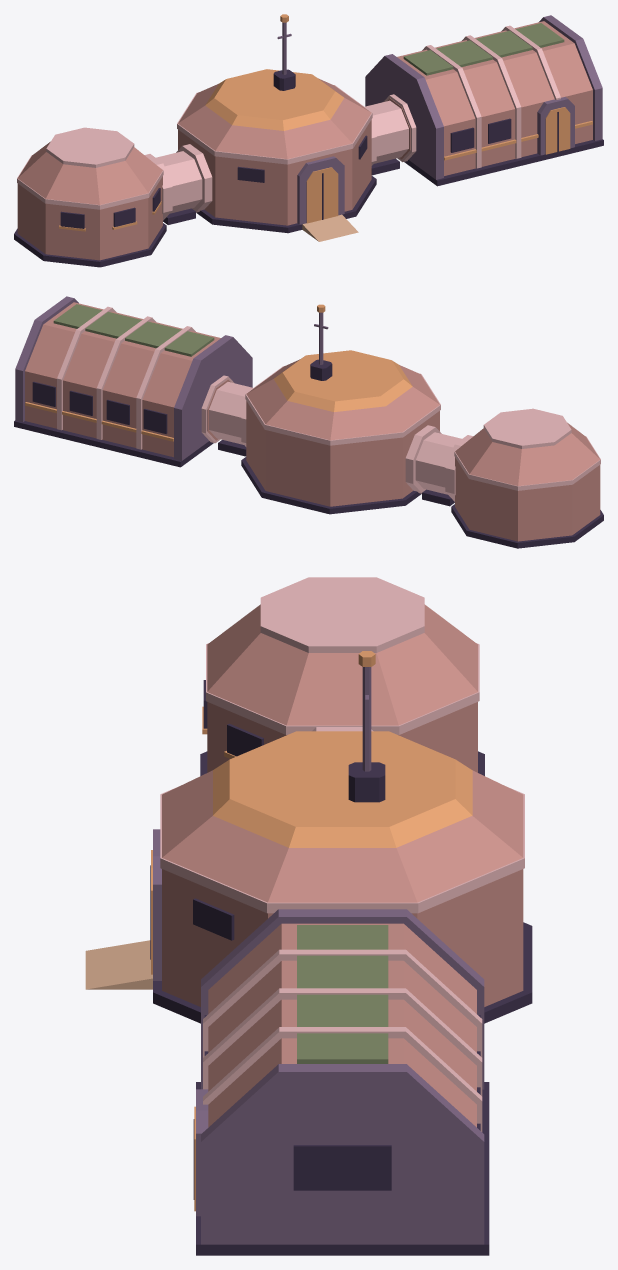
File: base_outpost.obj
3 views of the same model, one above another, from view 1: azimuth 30°, elevation 25°; view 2: azimuth 150°, elevation 25°; view 3: azimuth 270°, elevation 25° (orthographic). The views are drawn at different scales.
Visible parts, largest first — view 1: base_outpost_dusty_rose, base_outpost_pale_pink, base_outpost_warm_orange, base_outpost_mauve, base_outpost_deep_purple, base_outpost_muted_olive, base_outpost_clay_sand; view 2: base_outpost_dusty_rose, base_outpost_pale_pink, base_outpost_deep_purple, base_outpost_warm_orange, base_outpost_mauve, base_outpost_muted_olive; view 3: base_outpost_dusty_rose, base_outpost_mauve, base_outpost_pale_pink, base_outpost_warm_orange, base_outpost_deep_purple, base_outpost_muted_olive, base_outpost_clay_sand.
Part boxes in pixels (x1,y1,x2,y2): base_outpost_dusty_rose: (17, 21, 592, 260); base_outpost_pale_pink: (17, 25, 560, 220); base_outpost_warm_orange: (59, 14, 592, 231); base_outpost_mauve: (277, 15, 602, 224); base_outpost_deep_purple: (14, 69, 603, 267); base_outpost_muted_olive: (403, 23, 564, 75); base_outpost_clay_sand: (302, 214, 358, 241); base_outpost_dusty_rose: (25, 302, 600, 541); base_outpost_pale_pink: (57, 306, 600, 501); base_outpost_deep_purple: (14, 359, 603, 548); base_outpost_warm_orange: (25, 304, 412, 441); base_outpost_mauve: (15, 296, 328, 460); base_outpost_muted_olive: (53, 304, 214, 356); base_outpost_dusty_rose: (162, 604, 523, 1127); base_outpost_mauve: (153, 667, 484, 1244); base_outpost_pale_pink: (160, 577, 524, 1131); base_outpost_warm_orange: (151, 651, 472, 1211); base_outpost_deep_purple: (150, 680, 532, 1255); base_outpost_muted_olive: (297, 925, 388, 1063); base_outpost_clay_sand: (85, 940, 152, 989).
Bounding box in the file's own units: 20.41 × 5.99 × 7.31.
